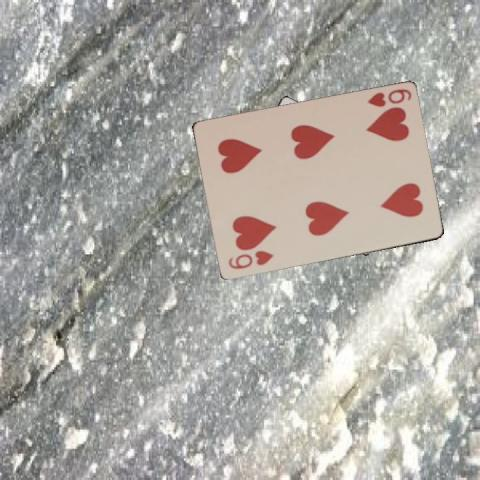6h: (225, 248, 275, 271), (364, 86, 413, 109)
